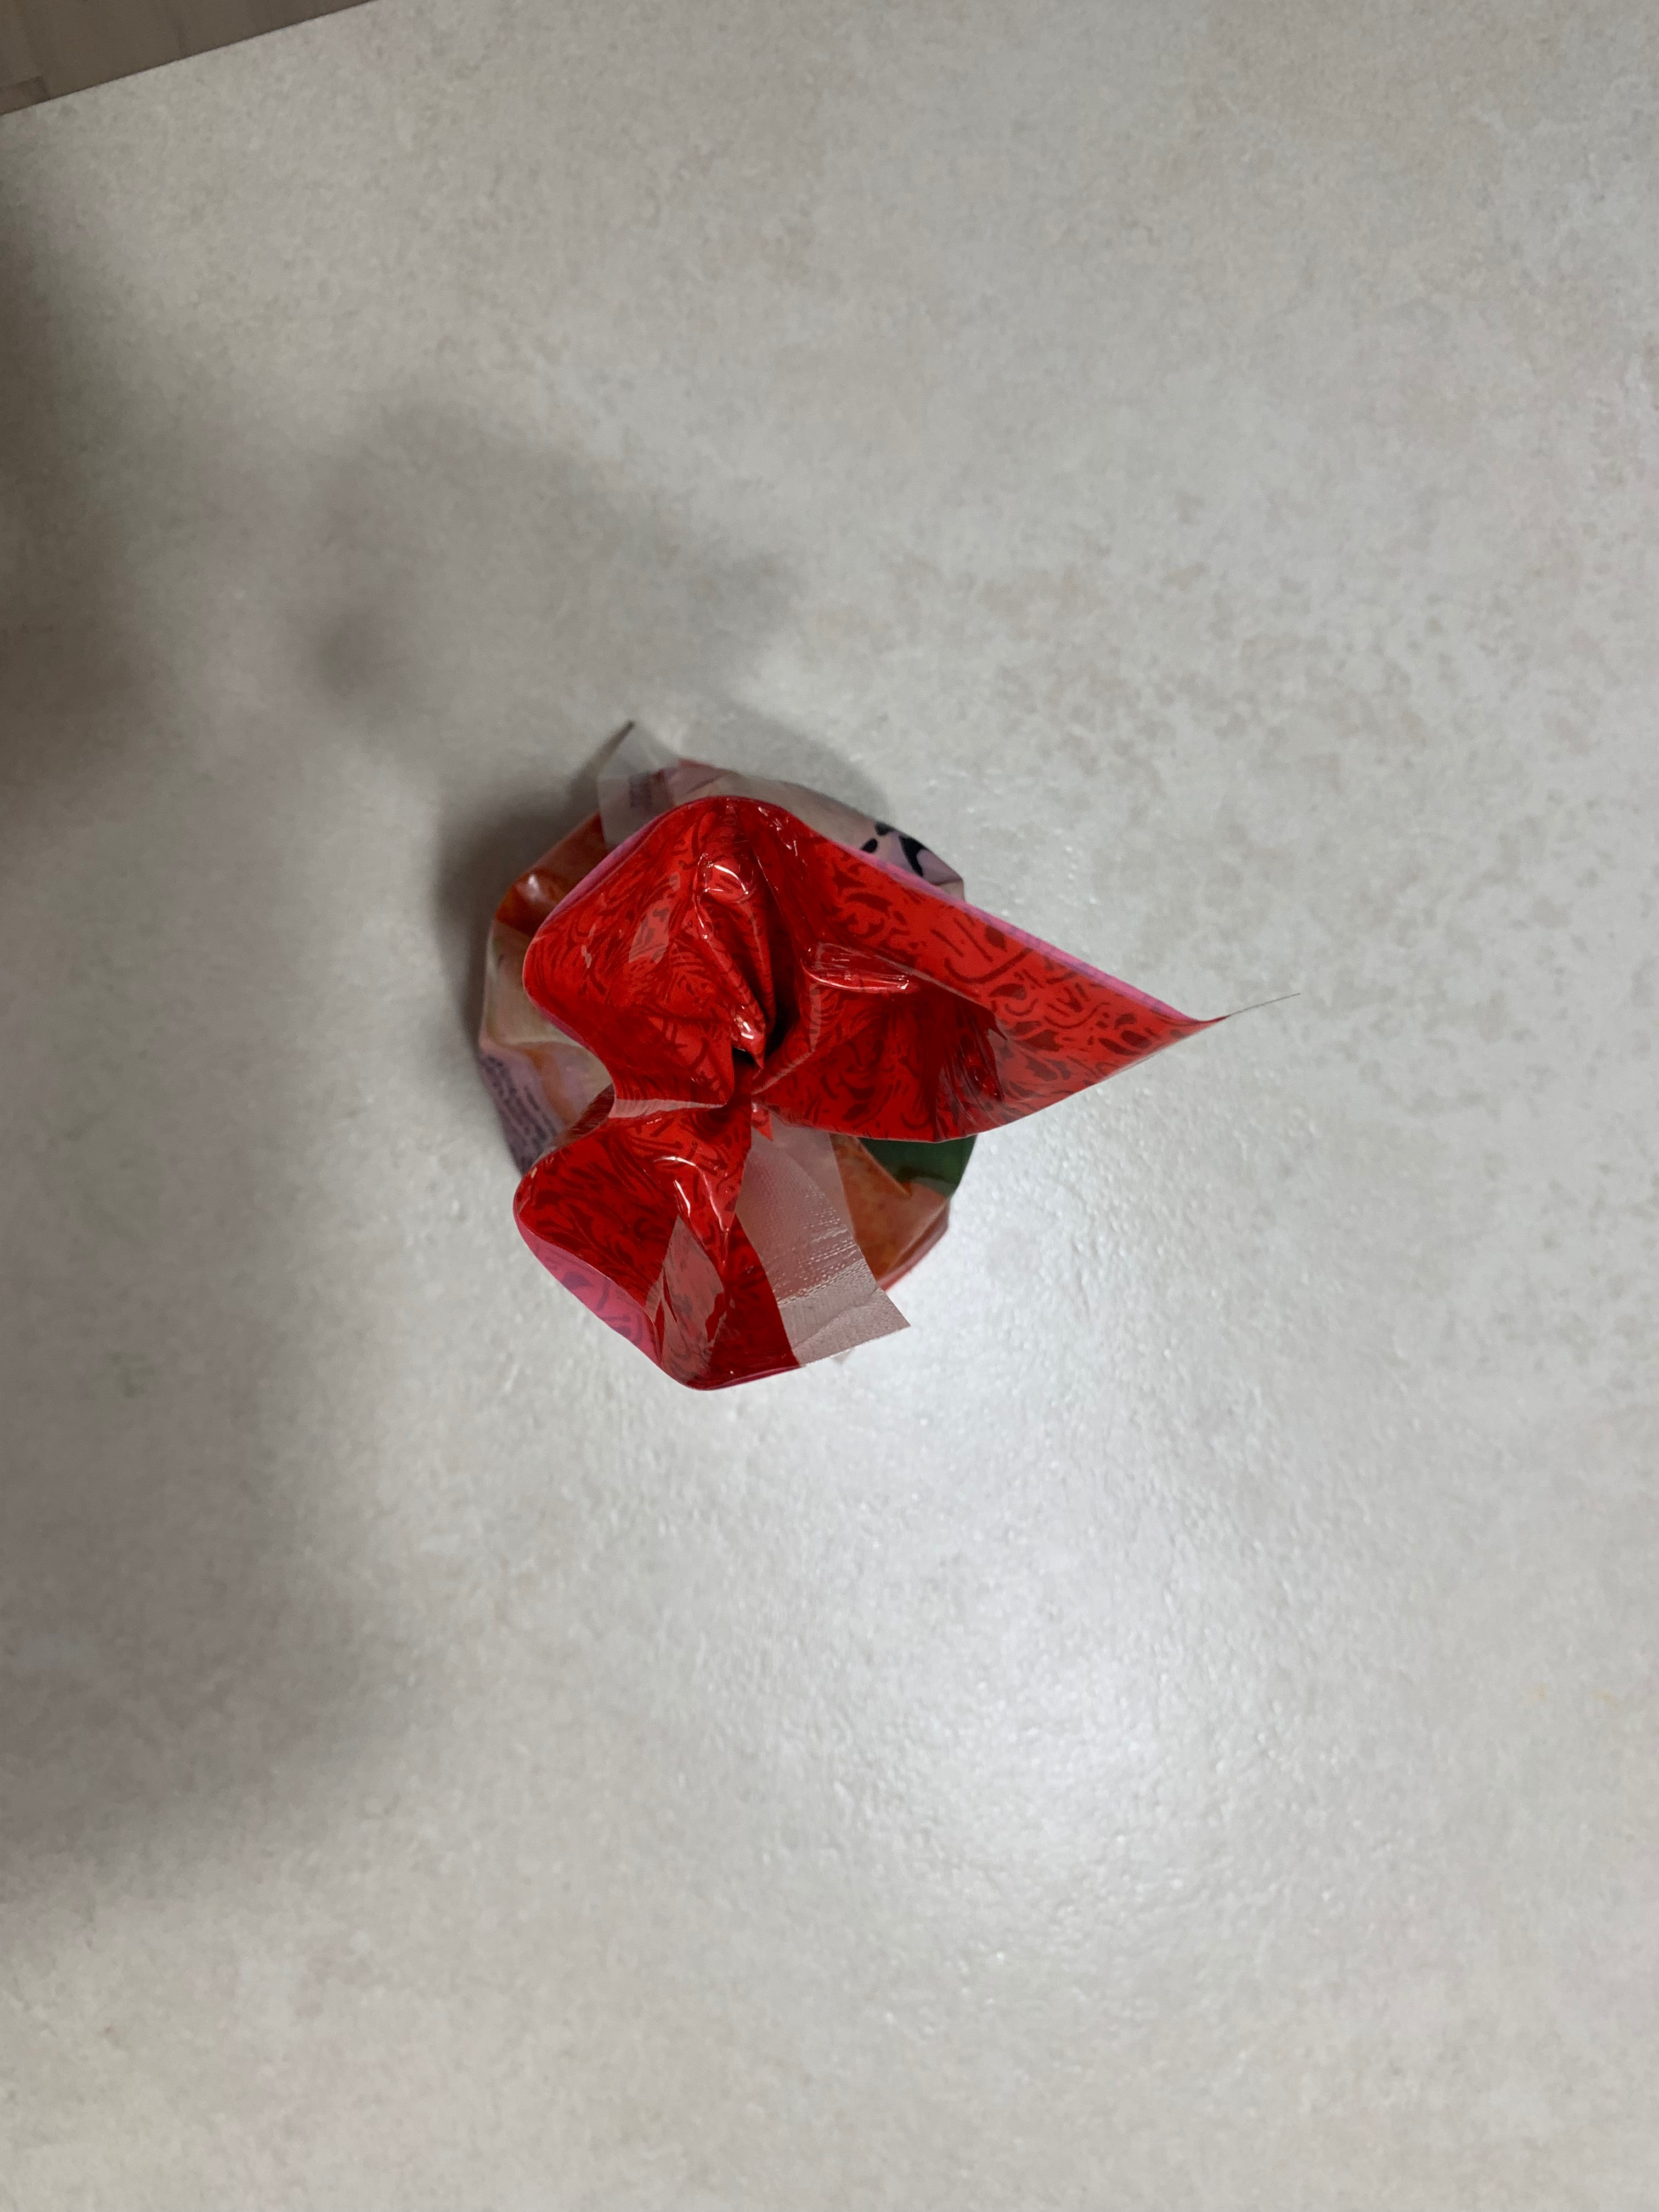kimchi: (471, 754, 1199, 1392)
